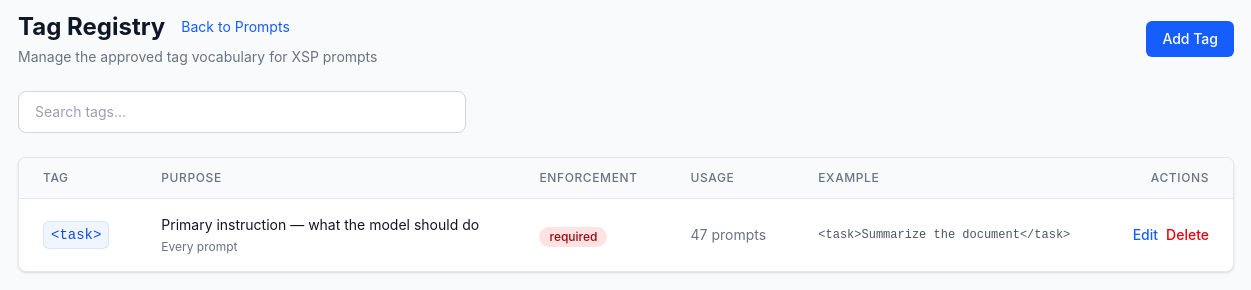
Test: TagRegistry › shows empty search results message
Expected: the text "<task>" is shown, [43,221,109,249]
Type "nonexistent" into the field with placeholder "Search tags...".
click(242, 112); type("nonexistent")  # box [18,91,466,133]
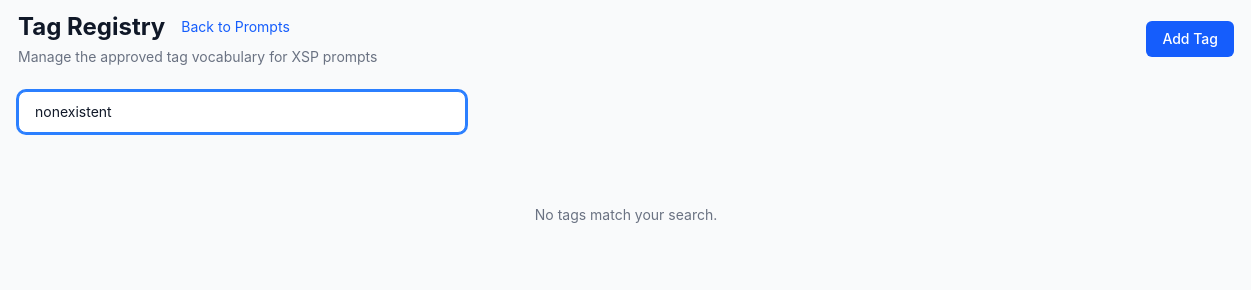
Now the text "No tags match your search." is shown, box [535,206,717,223]
